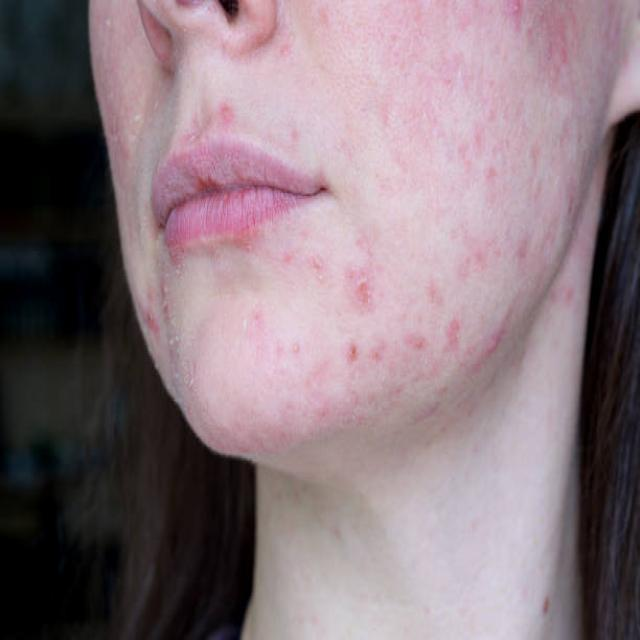Rosacea: (253, 12, 572, 374), (188, 384, 386, 454), (89, 0, 153, 152)
